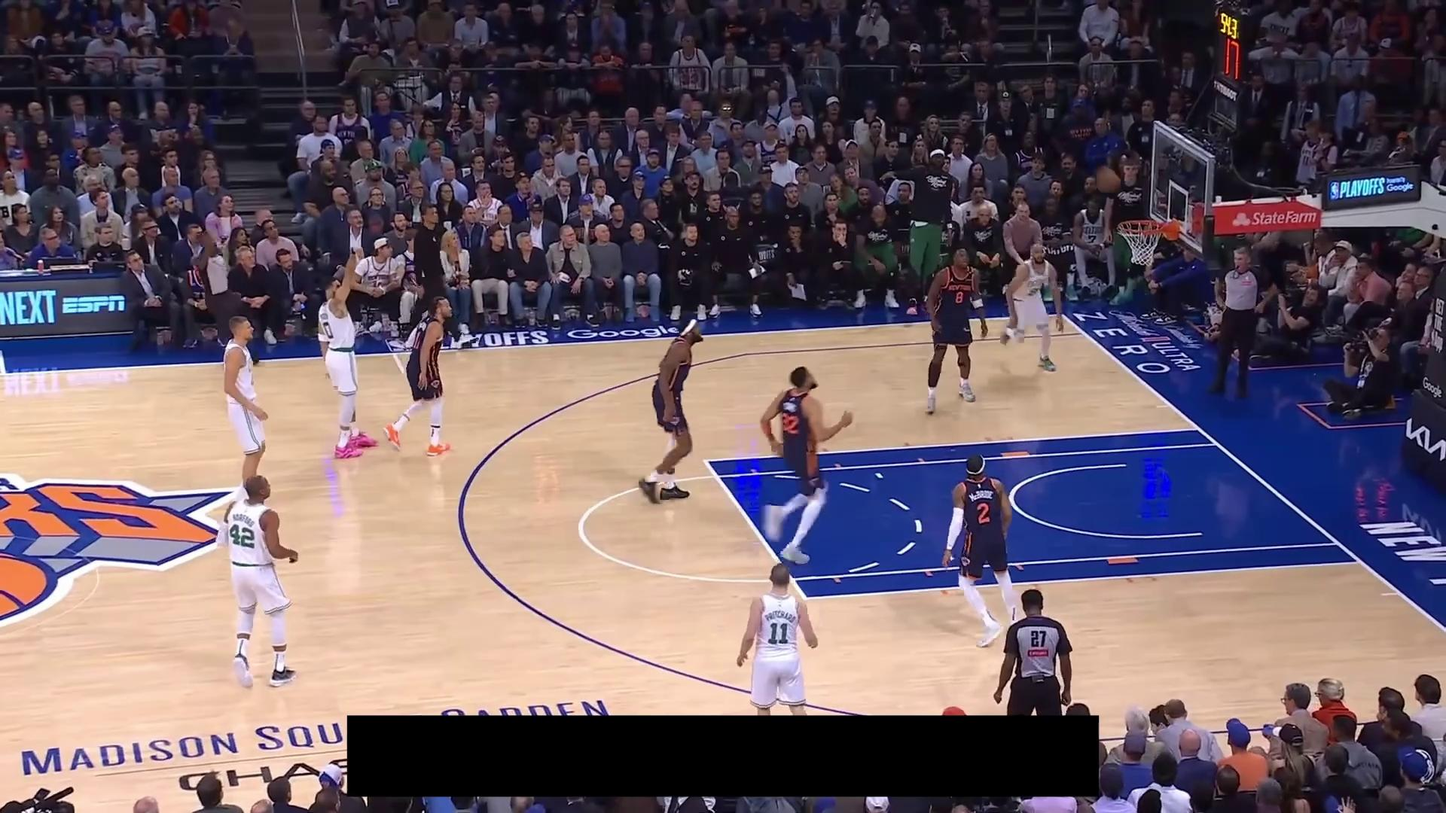ball: (1095, 165, 1121, 194)
number: (230, 523, 255, 548), (768, 622, 789, 644), (782, 413, 800, 434), (976, 502, 990, 525), (322, 320, 334, 340), (954, 291, 965, 305)
player: (758, 364, 856, 566), (215, 473, 300, 690), (941, 452, 1020, 649), (316, 245, 380, 460), (636, 315, 706, 506), (735, 562, 819, 716), (383, 294, 456, 458), (923, 244, 990, 416), (220, 312, 271, 508), (999, 242, 1066, 373)
referee: (1207, 245, 1278, 398), (993, 588, 1074, 716), (196, 230, 259, 364)
rim: (1118, 219, 1165, 234)
